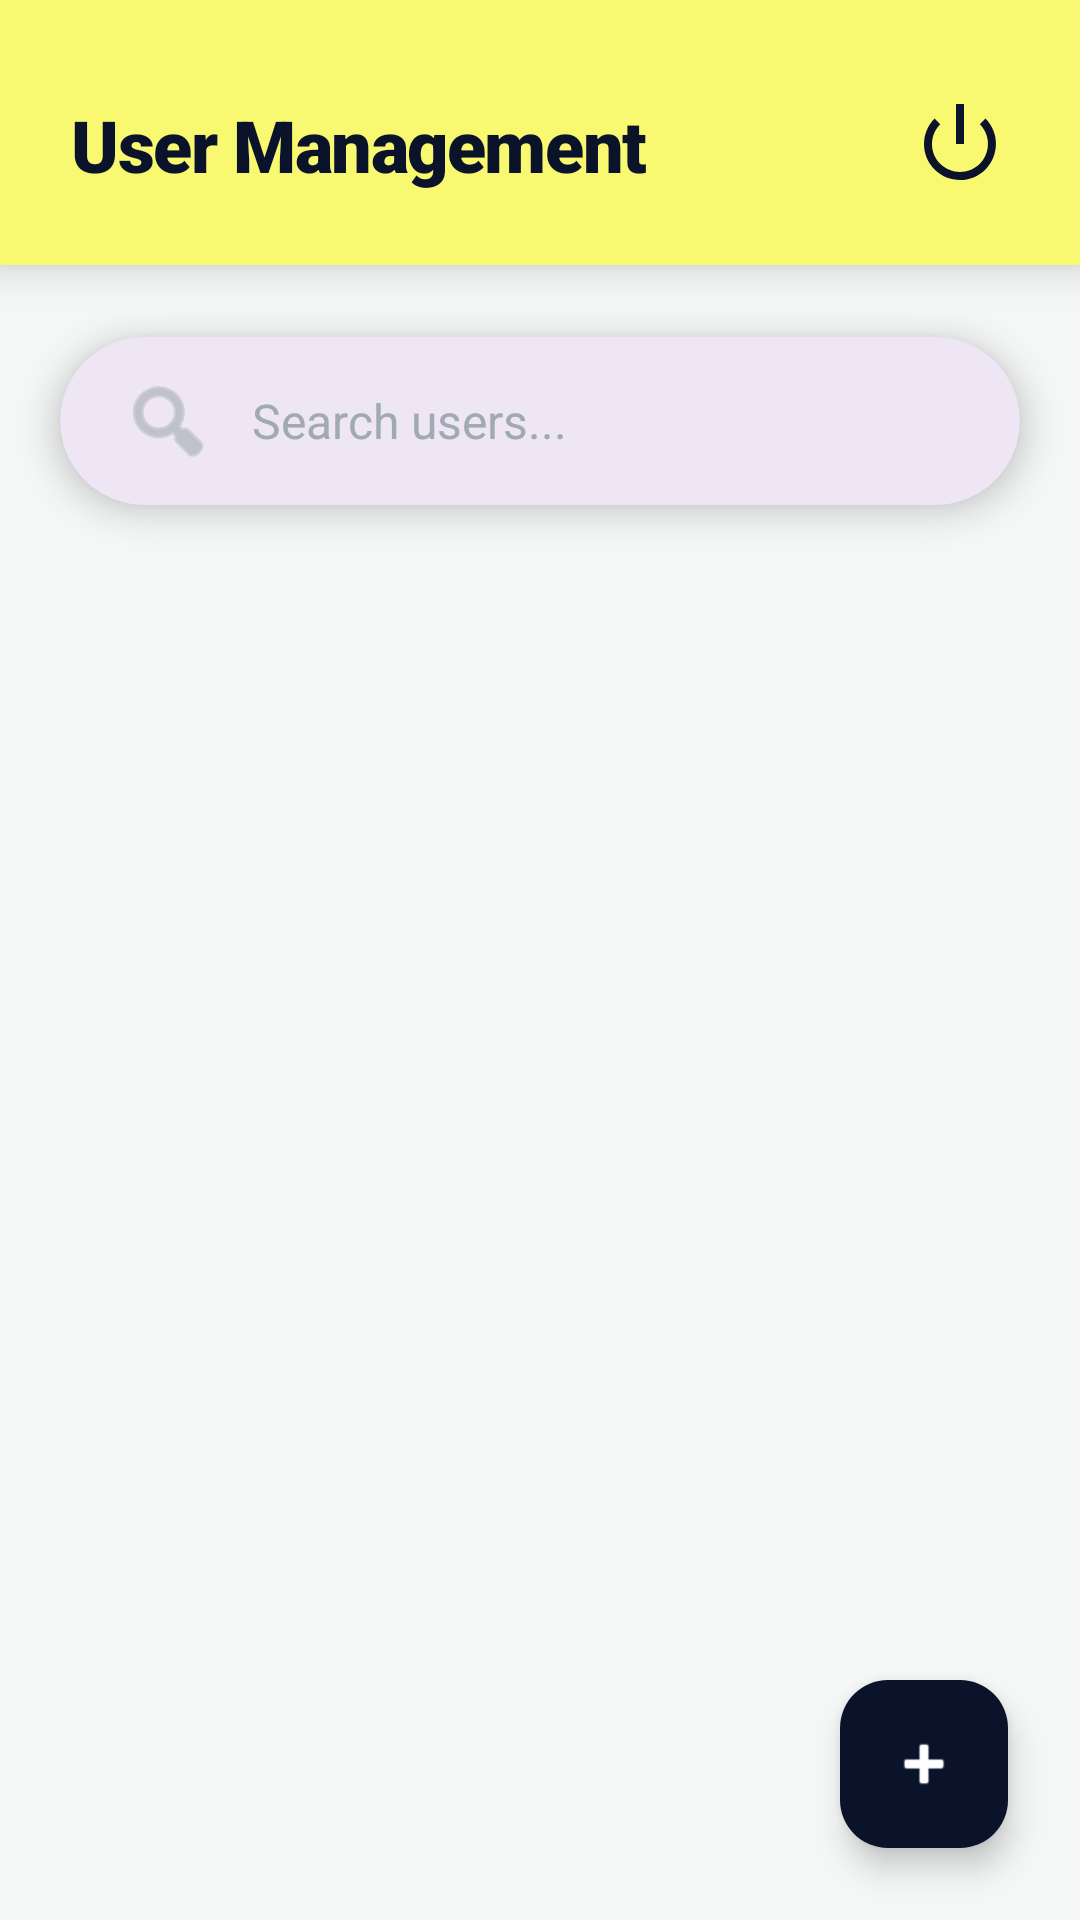

Screen size 1080 × 1920. Icon name, then its center in pixels as point (x, y):
Add New User: point (924, 1764)
